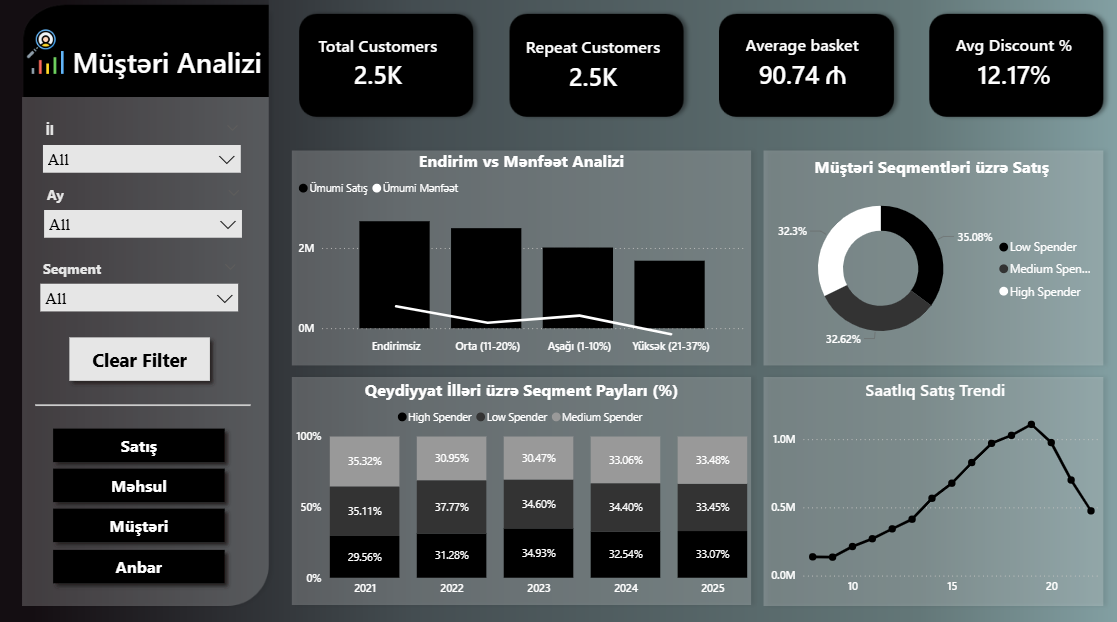

Layout of this report page (visuals, bound fields, positions):
{"tool":"powerbi","page":{"name":"Müştəri","canvas":[1280,720],"ordinal":2},"visuals":[{"type":"textbox","box":[71.2,47.1,241.3,56.7],"z":0},{"type":"image","box":[25.3,32.6,54.3,59.1],"z":1000},{"type":"slicer","fields":{"Values":["DimDate.MonthName"]},"box":[40.9,210.5,245.6,86.4],"z":2000},{"type":"slicer","fields":{"Values":["DimDate.Year"]},"box":[40.2,135,245.6,91.9],"z":3000},{"type":"actionButton","box":[71.2,380,178.6,67.6],"z":4000},{"type":"shape","box":[41,435.5,246.1,61.5],"z":5000},{"type":"actionButton","box":[53.5,484.4,214.1,56.3],"z":6000},{"type":"actionButton","box":[53.5,529.7,214.1,56.3],"z":7000},{"type":"actionButton","box":[53.5,576.3,214.1,56.3],"z":8000},{"type":"actionButton","box":[53.5,623,214.1,56.3],"z":9000},{"type":"cardVisual","fields":{"Data":["Ölçülər.Total Customers"]},"box":[333,7.2,200.3,135.1],"z":10000},{"type":"cardVisual","fields":{"Data":["Ölçülər.Avg Discount %"]},"box":[1059.3,24.1,203.9,100.1],"z":11000},{"type":"slicer","fields":{"Values":["DimCustomer.Segment"]},"box":[37.4,294.4,246.1,79.6],"z":13000},{"type":"cardVisual","fields":{"Data":["Ölçülər.Repeat Customers"]},"box":[573.1,8.4,212.3,135.1],"z":14000},{"type":"cardVisual","fields":{"Data":["Ölçülər.Average basket"]},"box":[802.3,14.5,230.4,121.9],"z":15000},{"type":"lineChart","title":"Saatlıq Satış Trendi","fields":{"Category":["FactSales.OrderHour"],"Y":["Ölçülər.Ümumi Satış"]},"box":[877.1,435.5,386.1,255.8],"z":16000},{"type":"donutChart","title":"Müştəri Seqmentləri üzrə Satış","fields":{"Category":["DimCustomer.Segment"],"Y":["Ölçülər.Ümumi Satış"]},"box":[868.6,181,394.5,232.8],"z":17000},{"type":"lineClusteredColumnComboChart","title":"Endirim vs Mənfəət Analizi","fields":{"Category":["FactSales.Discount Group"],"Y":["Ölçülər.Ümumi Satış"],"Y2":["Ölçülər.Ümumi Mənfəət"]},"box":[336.6,174.9,520,243.7],"z":18000},{"type":"hundredPercentStackedColumnChart","title":"Qeydiyyat İlləri üzrə Seqment Payları (%)","fields":{"Category":["DimCustomer.RegistrationYear"],"Series":["DimCustomer.Segment"],"Y":["Ölçülər.Ümumi Satış"]},"box":[334.2,435.5,526,258.2],"z":19000}]}

Visuals, with their boxes in screenshot pixels (x1, y1, x2, y2), scaled from the page's 1280x720 canvas onto the 1117x622 screenshot:
textbox: (left=62, top=41, right=273, bottom=90)
image: (left=22, top=28, right=69, bottom=79)
slicer - DimDate.MonthName: (left=36, top=182, right=250, bottom=256)
slicer - DimDate.Year: (left=35, top=117, right=249, bottom=196)
actionButton: (left=62, top=328, right=218, bottom=387)
shape: (left=36, top=376, right=251, bottom=429)
actionButton: (left=47, top=418, right=234, bottom=467)
actionButton: (left=47, top=458, right=234, bottom=506)
actionButton: (left=47, top=498, right=234, bottom=546)
actionButton: (left=47, top=538, right=234, bottom=587)
cardVisual - Ölçülər.Total Customers: (left=291, top=6, right=465, bottom=123)
cardVisual - Ölçülər.Avg Discount %: (left=924, top=21, right=1102, bottom=107)
slicer - DimCustomer.Segment: (left=33, top=254, right=247, bottom=323)
cardVisual - Ölçülər.Repeat Customers: (left=500, top=7, right=685, bottom=124)
cardVisual - Ölçülər.Average basket: (left=700, top=13, right=901, bottom=118)
"Saatlıq Satış Trendi" lineChart: (left=765, top=376, right=1102, bottom=597)
"Müştəri Seqmentləri üzrə Satış" donutChart: (left=758, top=156, right=1102, bottom=357)
"Endirim vs Mənfəət Analizi" lineClusteredColumnComboChart: (left=294, top=151, right=748, bottom=362)
"Qeydiyyat İlləri üzrə Seqment Payları (%)" hundredPercentStackedColumnChart: (left=292, top=376, right=751, bottom=599)
